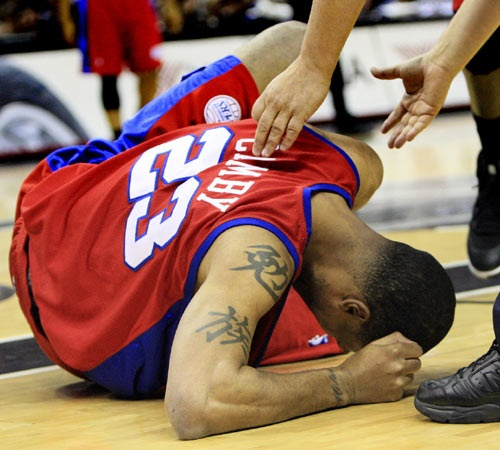falling: (8, 1, 479, 443)
